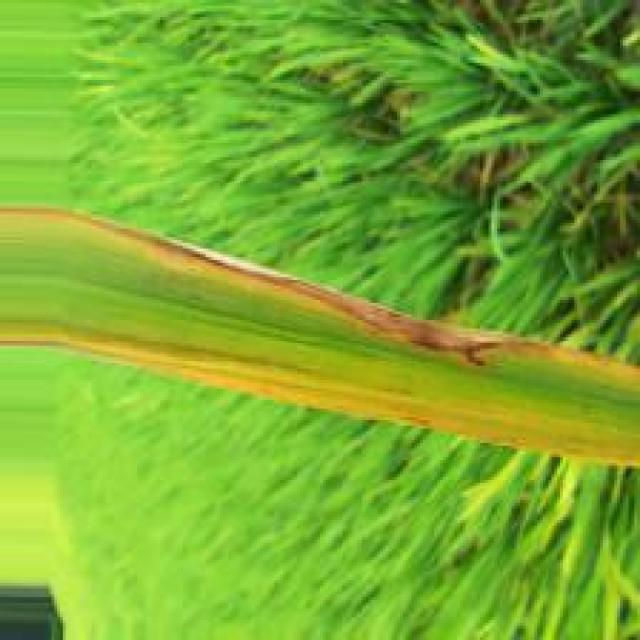Leaf_Blast: (0, 211, 640, 389), (57, 333, 640, 465)
